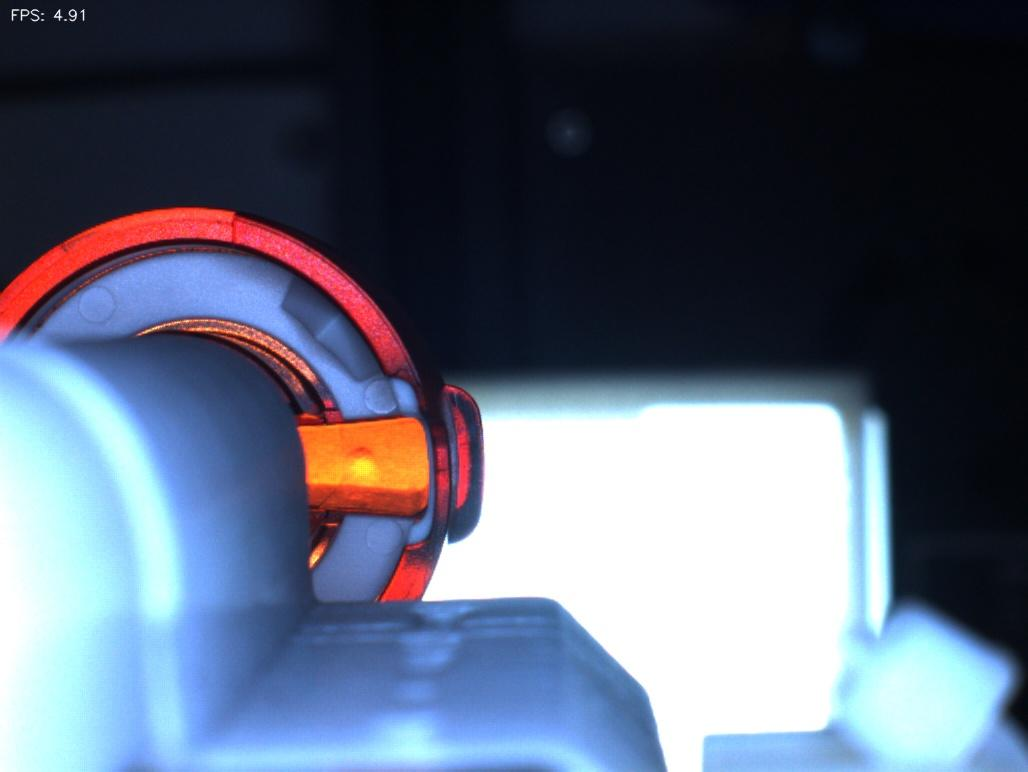Retassure: (317, 429, 402, 497)
